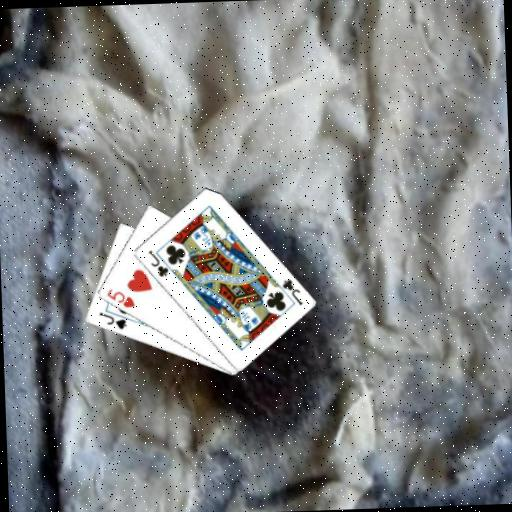5H: (103, 284, 136, 310)
JC: (144, 246, 169, 279), (279, 276, 304, 308)
JS: (96, 308, 128, 332)
